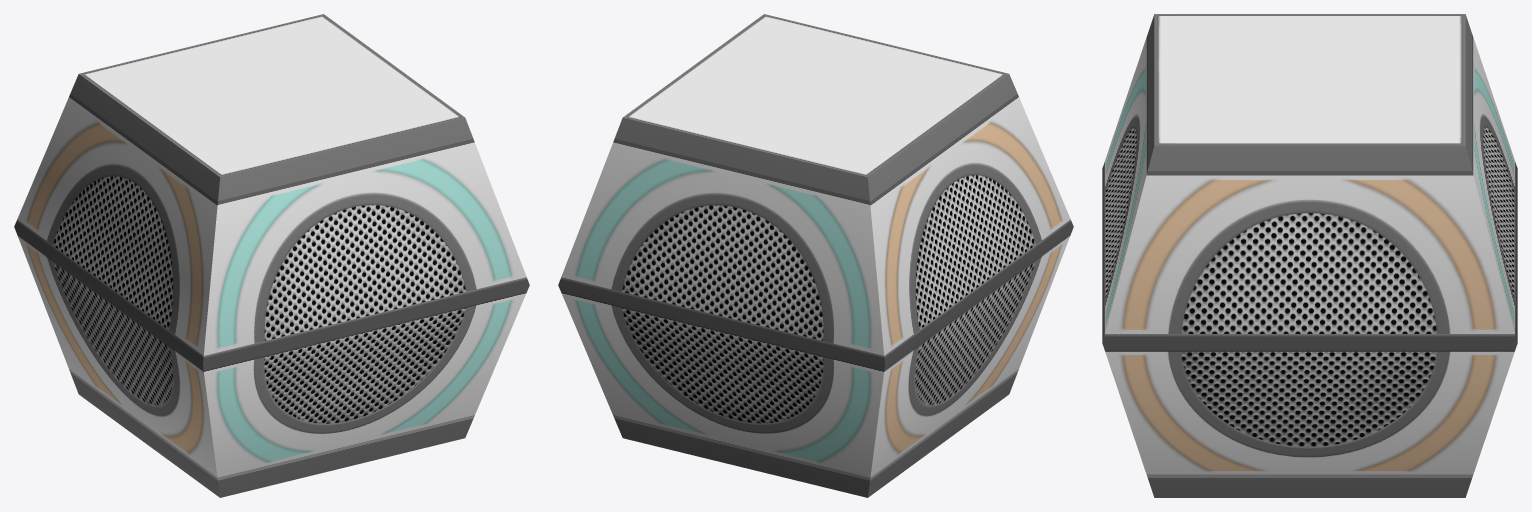
File: anchor2.fbx
3 views of the same model, side by side, from view 1: azimuth 30°, elevation 25°; view 2: azimuth 150°, elevation 25°; view 3: azimuth 270°, elevation 25° (orthographic). The views are drawn at different scales.
Parts seen in each view (by area): view 1: pCube1; view 2: pCube1; view 3: pCube1.
Part boxes in pixels (x1=…): pCube1: x1=14, y1=14, x2=529, y2=497; pCube1: x1=558, y1=14, x2=1073, y2=497; pCube1: x1=1102, y1=14, x2=1517, y2=497.
Bounding box in the file's own units: 1.99 × 1.86 × 1.99.
1 material, 1 textured.
